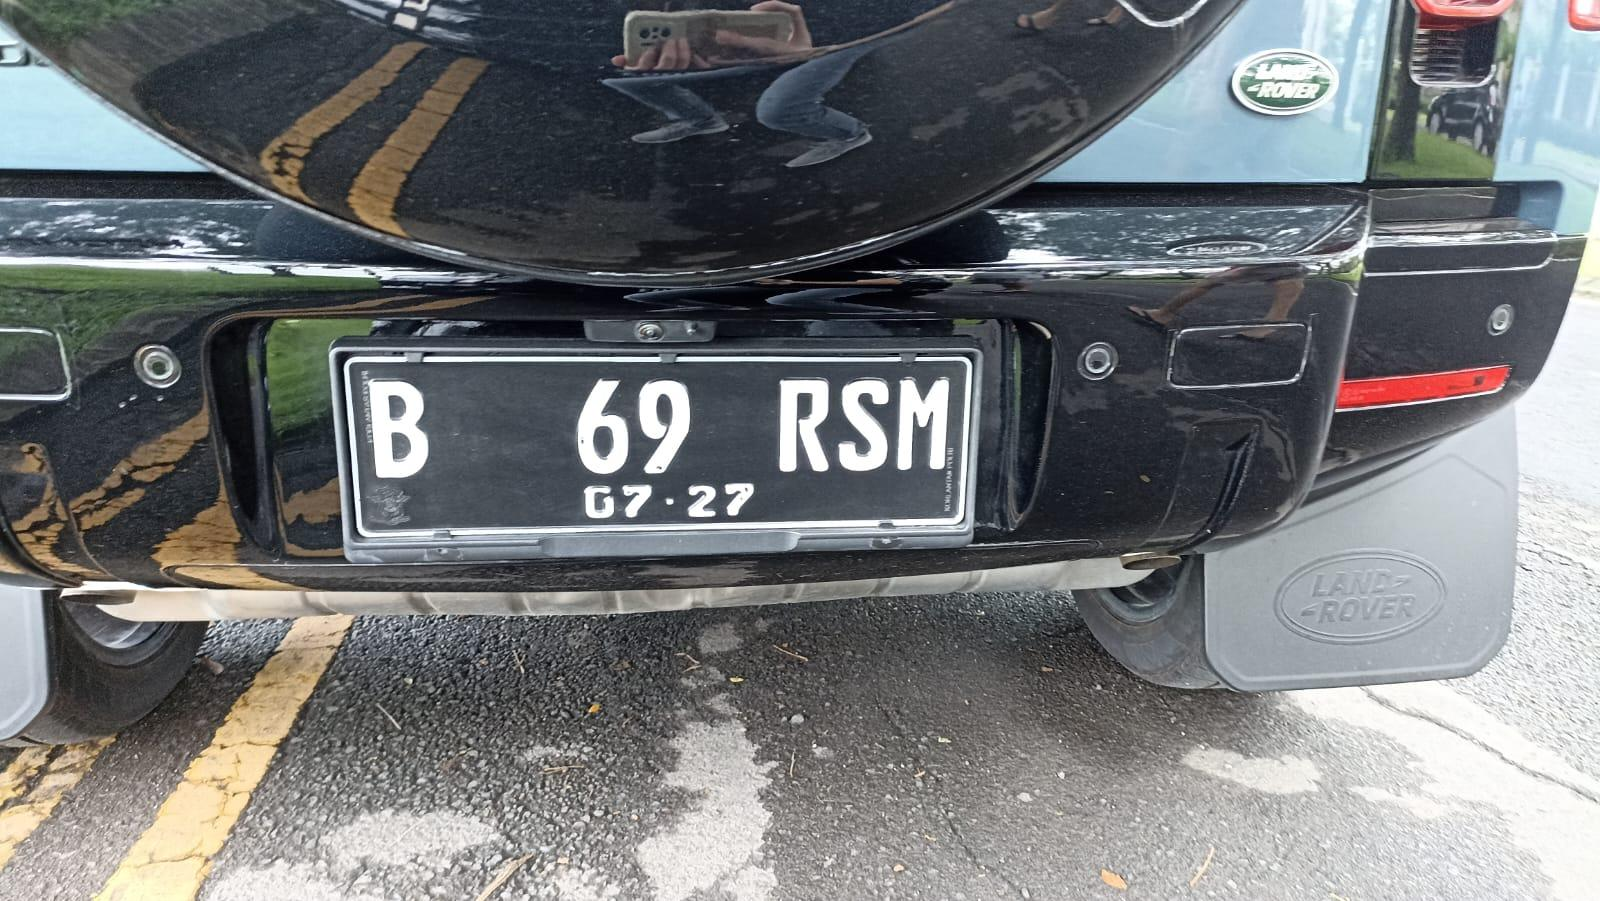plat: (331, 351, 975, 563)
